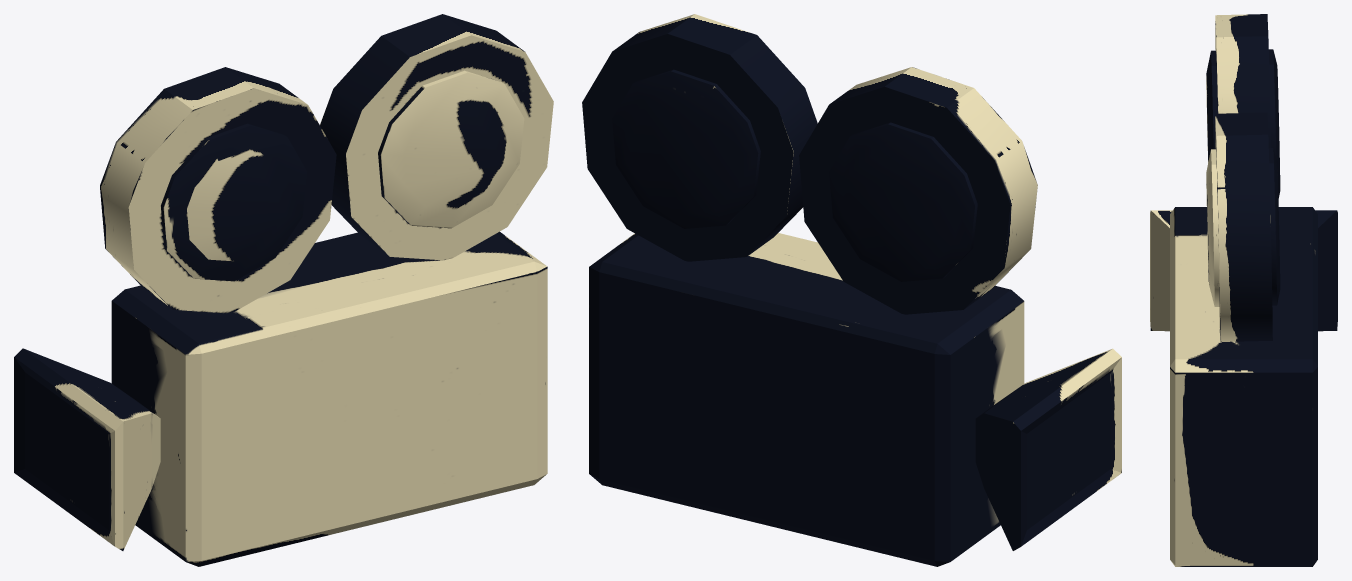
File: Camcord.fbx
3 renders of one model, left to right at view 1: azimuth 30°, elevation 25°; view 2: azimuth 150°, elevation 25°; view 3: azimuth 270°, elevation 25°, orthographic. The views are drawn at different scales.
Parts seen in each view (by area): view 1: Cylinder.003; view 2: Cylinder.003; view 3: Cylinder.003.
Part boxes in pixels (<box>): Cylinder.003: <box>14,14,553,566</box>; Cylinder.003: <box>582,14,1121,566</box>; Cylinder.003: <box>1150,14,1337,566</box>.
Size of the model in its own units: 277 by 247 by 102.
Materials: 1 (1 with a texture image).
